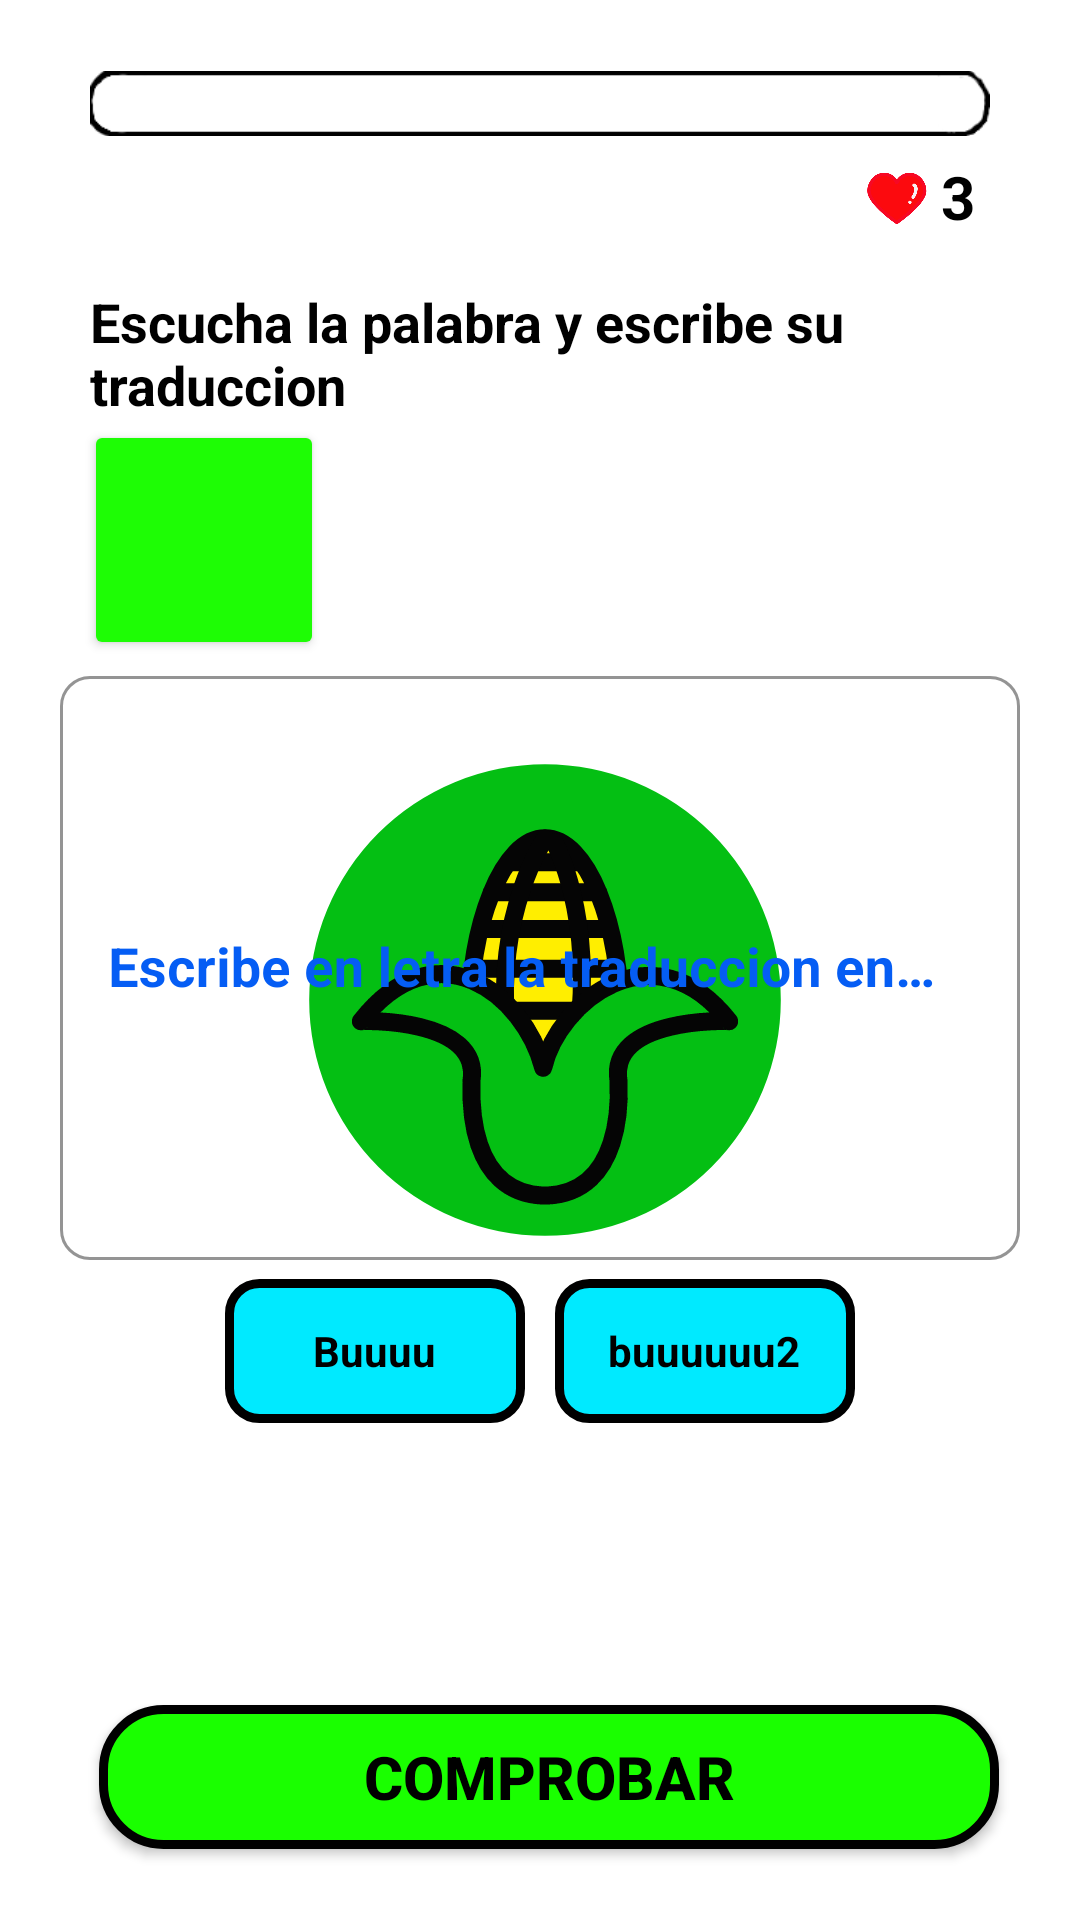

Where to tap for icons on this 1080x1920 app screen, as point (x, y):
heart: point (897, 198)
